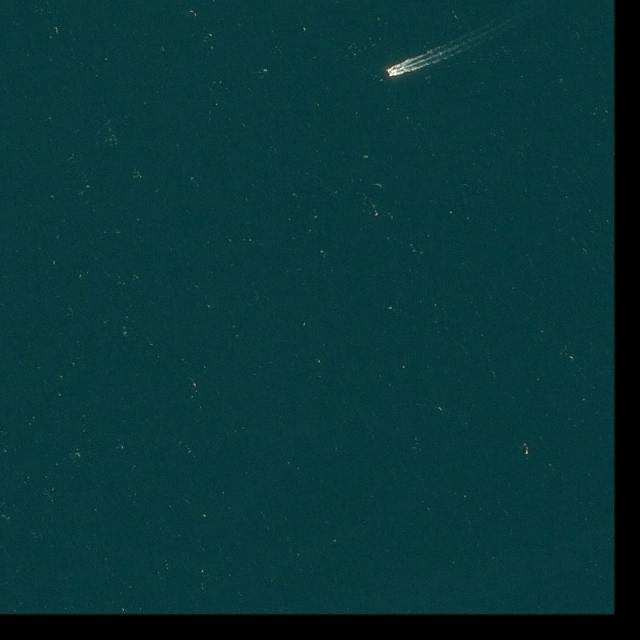ship: (390, 67, 401, 74)
